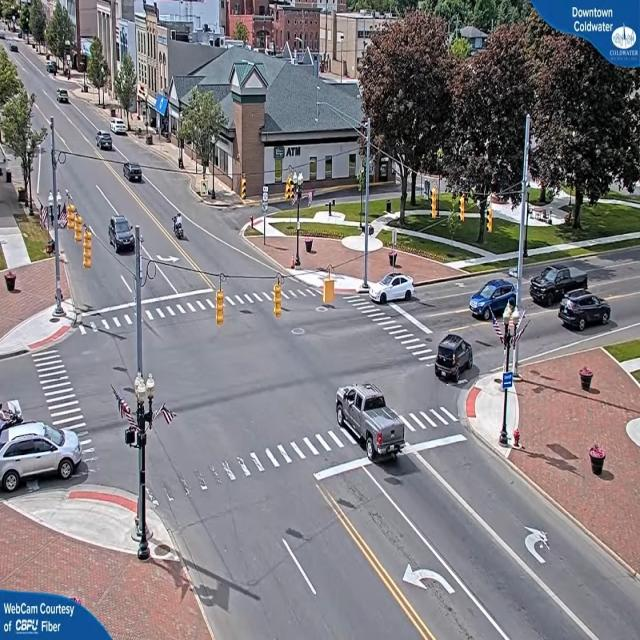car: (334, 384, 408, 464), (1, 430, 84, 496), (530, 267, 588, 308), (470, 279, 519, 323), (559, 293, 612, 331), (435, 335, 474, 385), (370, 272, 416, 303), (110, 218, 138, 255), (111, 119, 128, 135)
